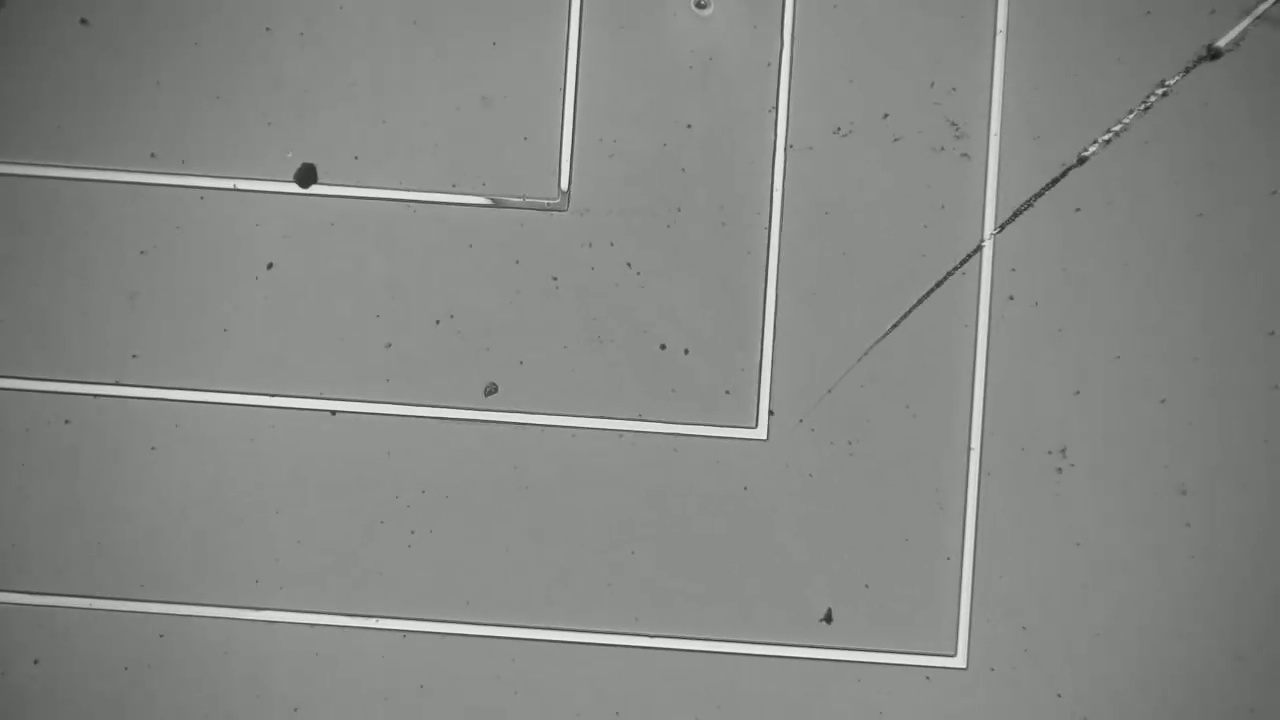gray_line: (470, 179, 587, 222), (545, 169, 581, 234)
scratch: (803, 1, 1275, 407)
stains_enbedded: (280, 151, 332, 207)
